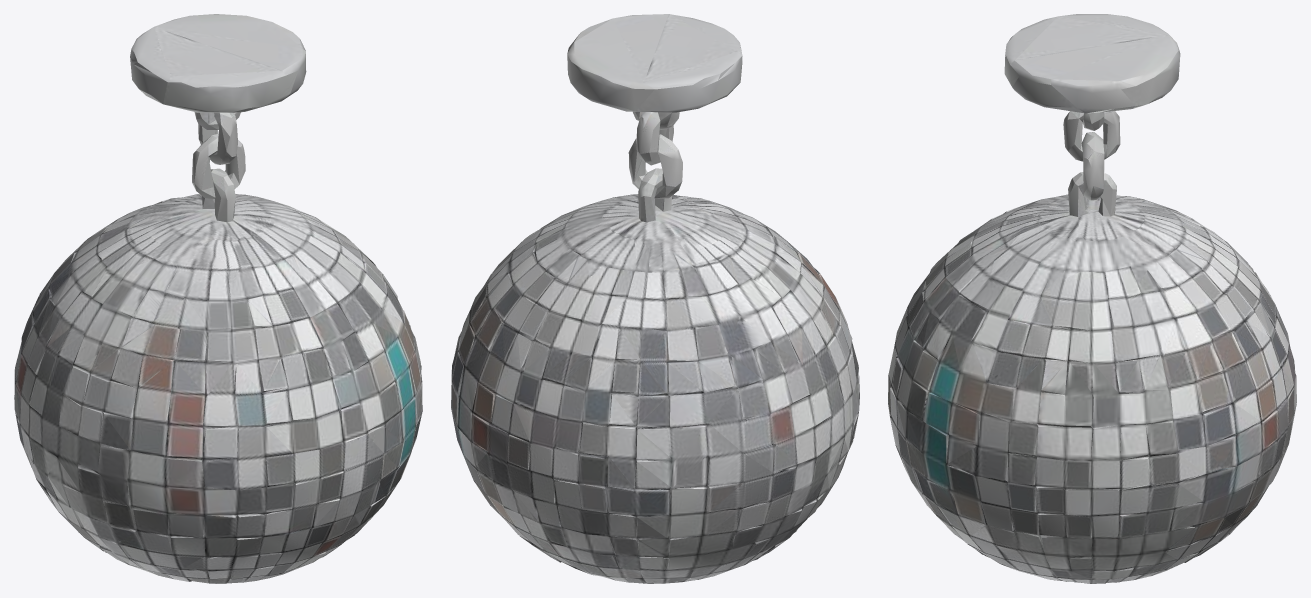
File: ds-diskokugle.glb
3 renders of one model, left to right at view 1: azimuth 30°, elevation 25°; view 2: azimuth 150°, elevation 25°; view 3: azimuth 270°, elevation 25°, orthographic.
Size of the model in its own units: 1.36 by 1.9 by 1.36.
1 material, 1 textured.
